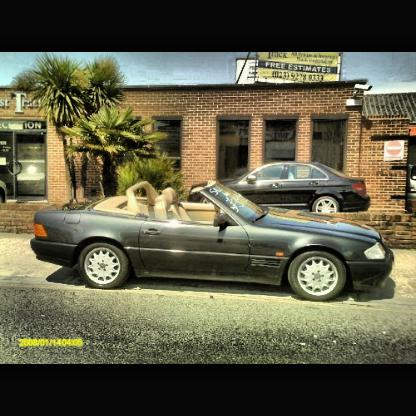Mercedes-Benz 300-Class Convertible 1993: (32, 181, 394, 303)
